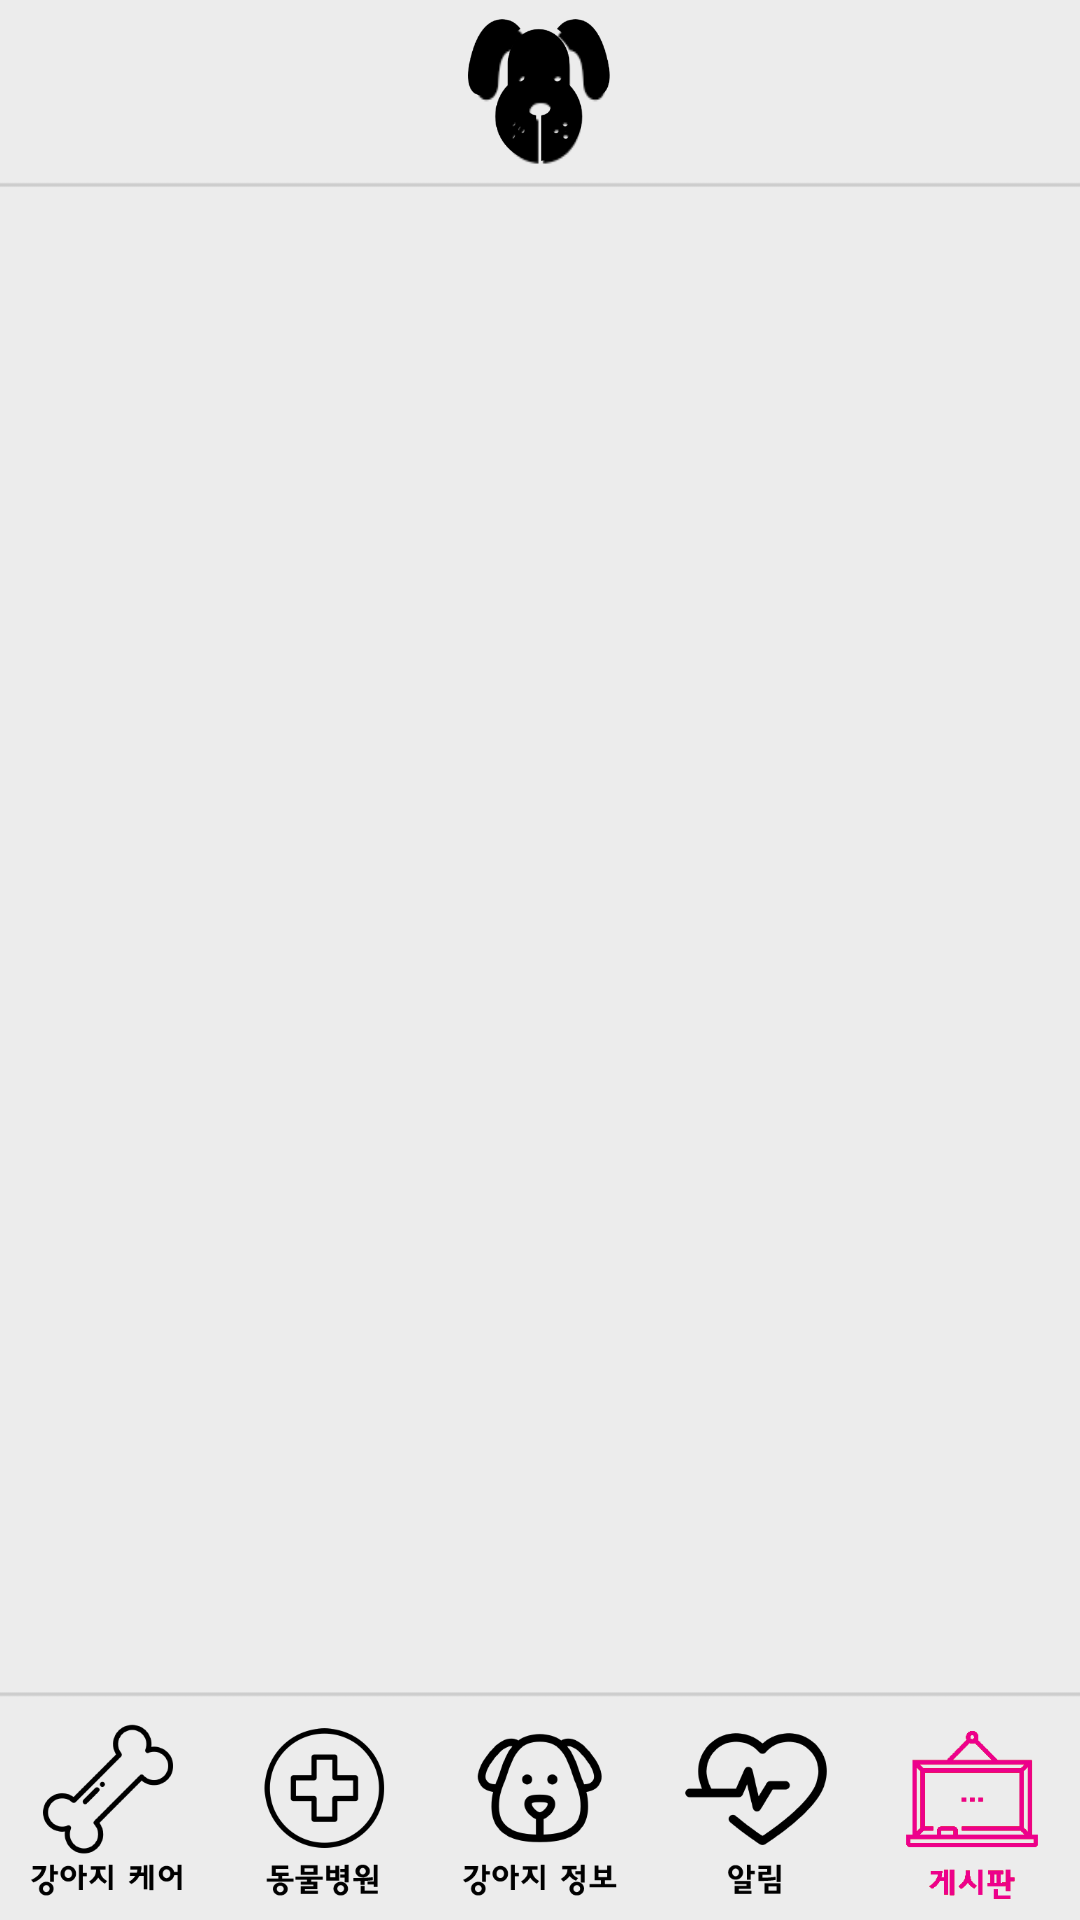

Icon click points for this 1080 x 1920 phone screenshot, format [x,y]:
dogdogface: [539,91]
